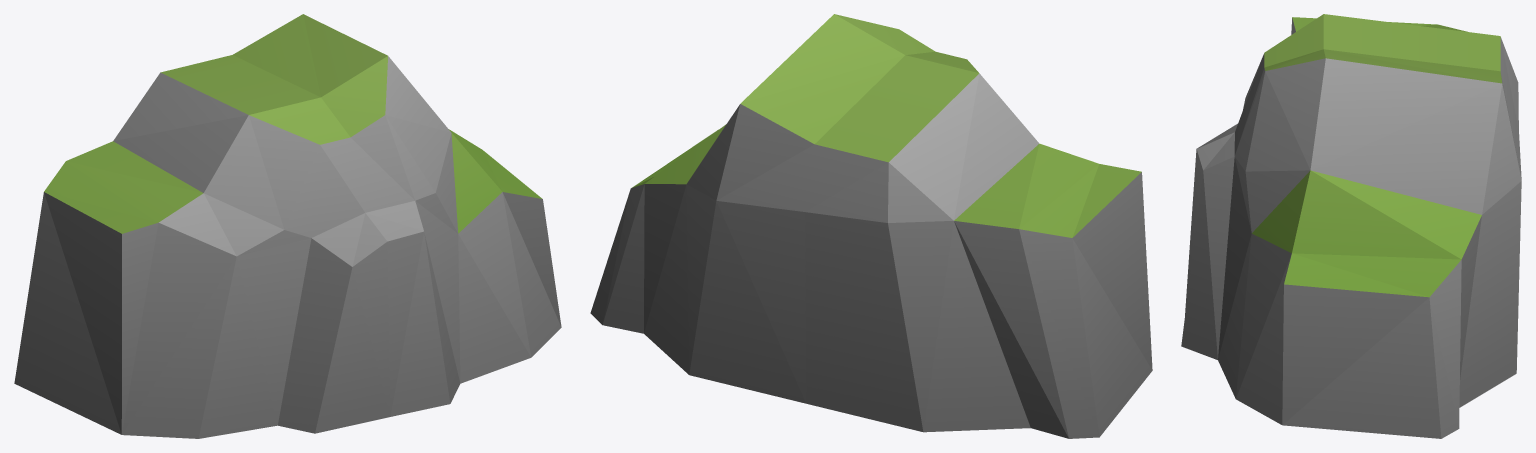
The model's file is green-stone-4.glb.
3 views of the same model, side by side, from view 1: azimuth 30°, elevation 25°; view 2: azimuth 150°, elevation 25°; view 3: azimuth 270°, elevation 25° (orthographic). The views are drawn at different scales.
Visible parts, largest first — view 1: green stone 4; view 2: green stone 4; view 3: green stone 4.
Boxes of the visible parts, x1=… form: green stone 4: x1=14, y1=14, x2=561, y2=438; green stone 4: x1=590, y1=14, x2=1152, y2=438; green stone 4: x1=1181, y1=14, x2=1521, y2=438.
Bounding box in the file's own units: 1.25 × 0.7063 × 0.7436.
1 material, 1 textured.
